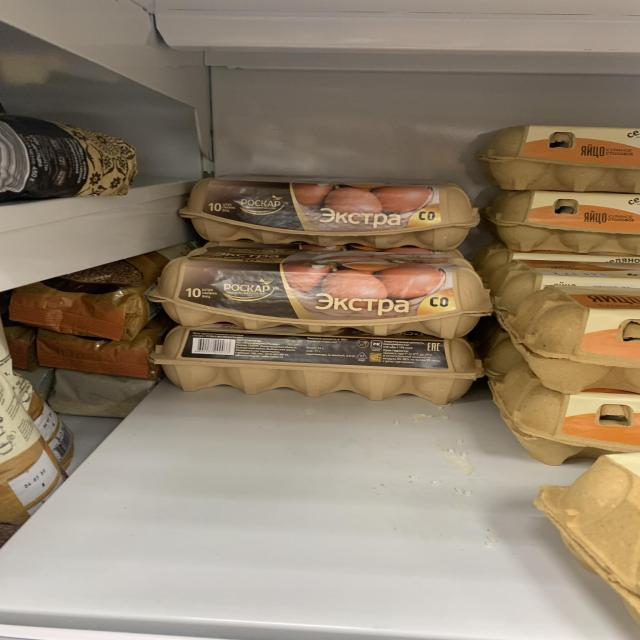organic waste: (149, 246, 495, 334), (175, 172, 480, 250), (0, 249, 158, 341), (507, 285, 640, 393), (475, 121, 640, 195), (0, 112, 140, 196), (483, 190, 639, 259)
